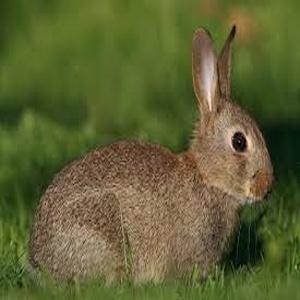rabbit: (28, 25, 275, 287)
